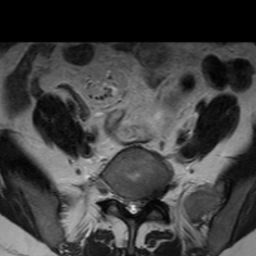CCS_severe_stenosis: (129, 190, 137, 221)
LFS_severe_stenosis: (145, 186, 155, 211)
LLS_normal: (138, 190, 145, 216)
RFS_stenosis: (113, 185, 122, 213)
RLS_normal: (122, 190, 129, 215)
